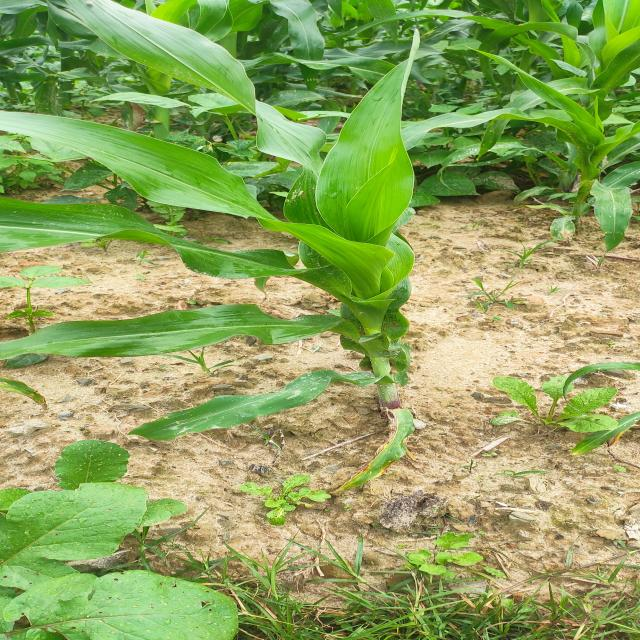maize: (10, 56, 448, 411), (0, 0, 640, 232)
weed: (0, 449, 277, 640), (506, 360, 640, 441)
